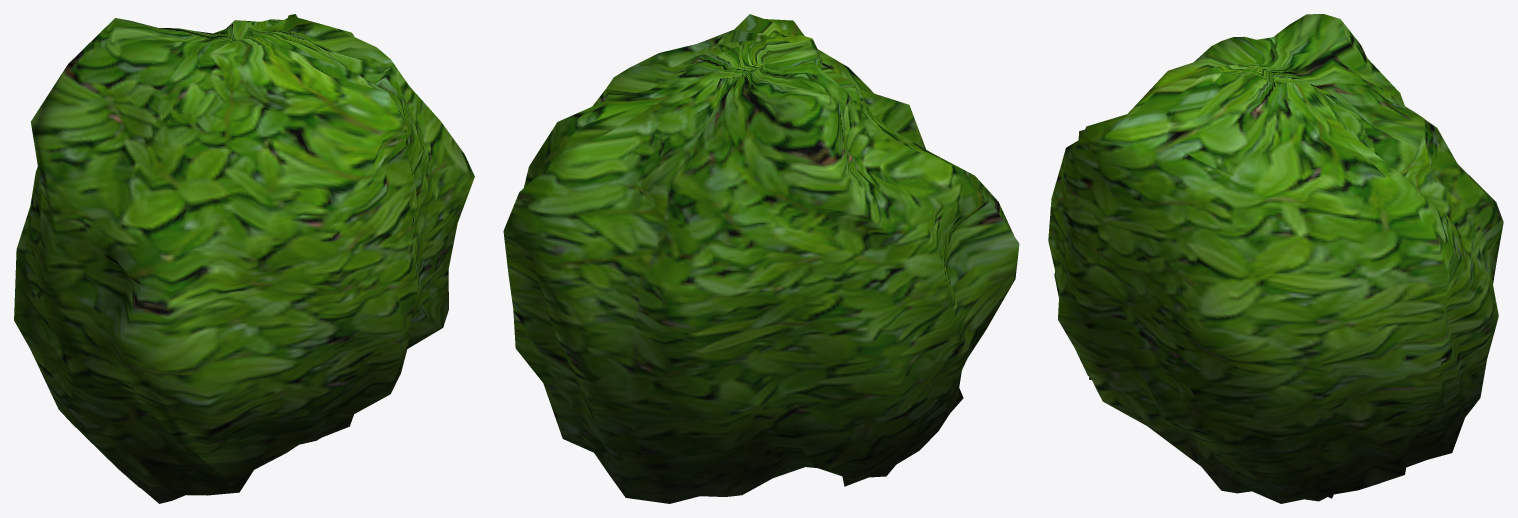
The model's file is shrub.fbx.
3 views of the same model, side by side, from view 1: azimuth 30°, elevation 25°; view 2: azimuth 150°, elevation 25°; view 3: azimuth 270°, elevation 25° (orthographic). The views are drawn at different scales.
Visible parts, largest first — view 1: Sphere001; view 2: Sphere001; view 3: Sphere001.
Part boxes in pixels (x1=…): Sphere001: x1=14, y1=14, x2=474, y2=503; Sphere001: x1=503, y1=14, x2=1019, y2=503; Sphere001: x1=1048, y1=14, x2=1503, y2=503.
Bounding box in the file's own units: 16.99 × 17.22 × 17.
1 material, 1 textured.
